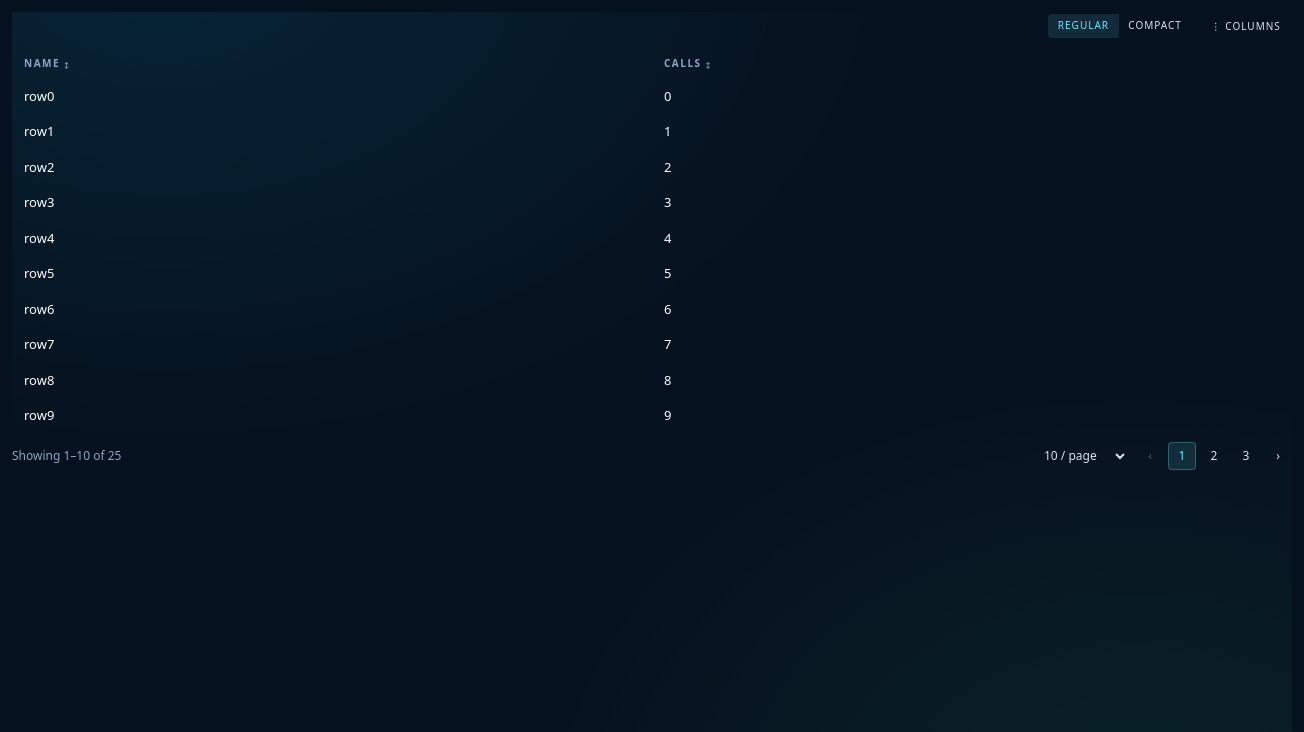
Test: <AdminDataTable /> › navigates pages on next click
Click the button "›": (1278, 456) x1=1264 y1=442 x2=1292 y2=470
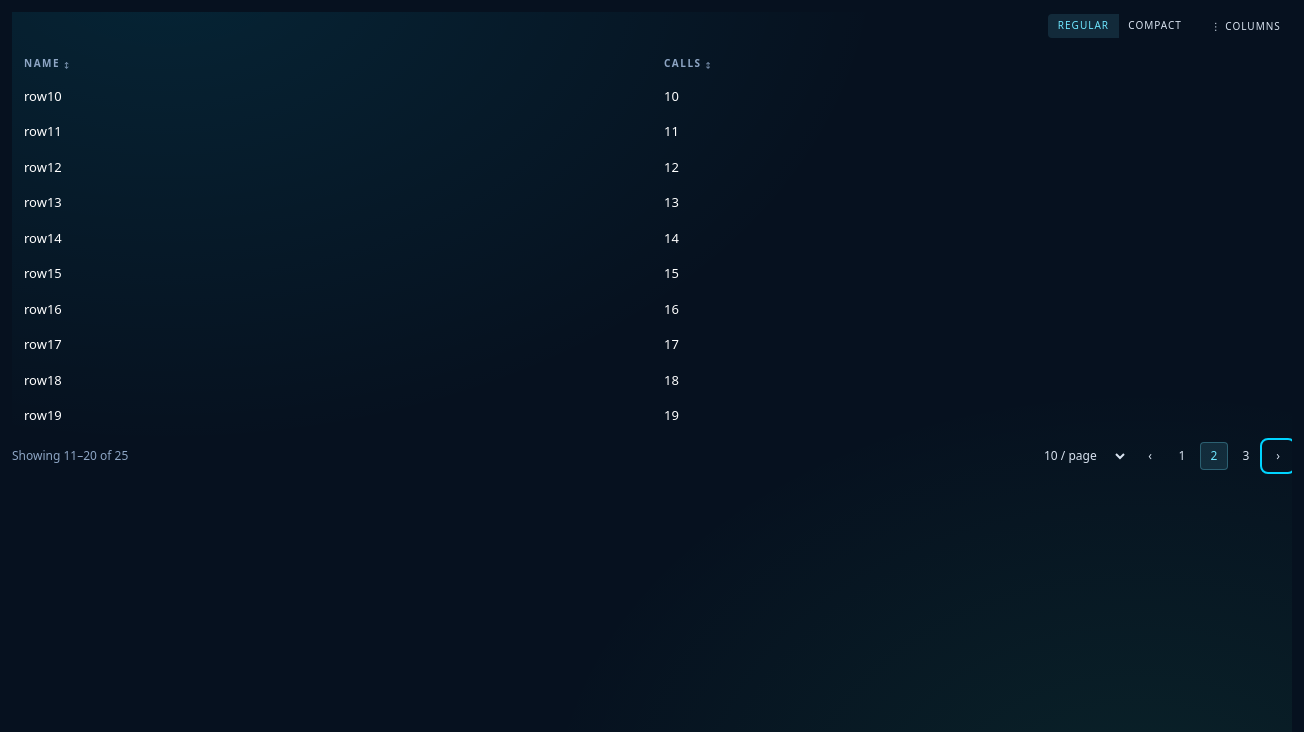
Result: the text "Showing 11–20 of 25" is shown at x1=12 y1=447 x2=128 y2=465
